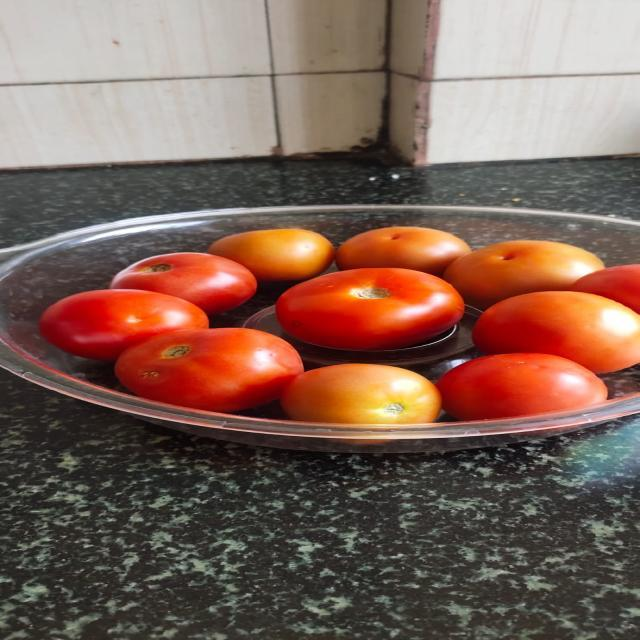Tomato: (114, 328, 303, 413), (274, 268, 464, 351), (472, 291, 640, 374), (38, 290, 207, 361), (436, 353, 608, 421), (442, 240, 605, 310), (279, 364, 441, 424), (108, 252, 256, 314), (335, 226, 471, 277), (206, 228, 334, 281), (569, 264, 640, 314)
